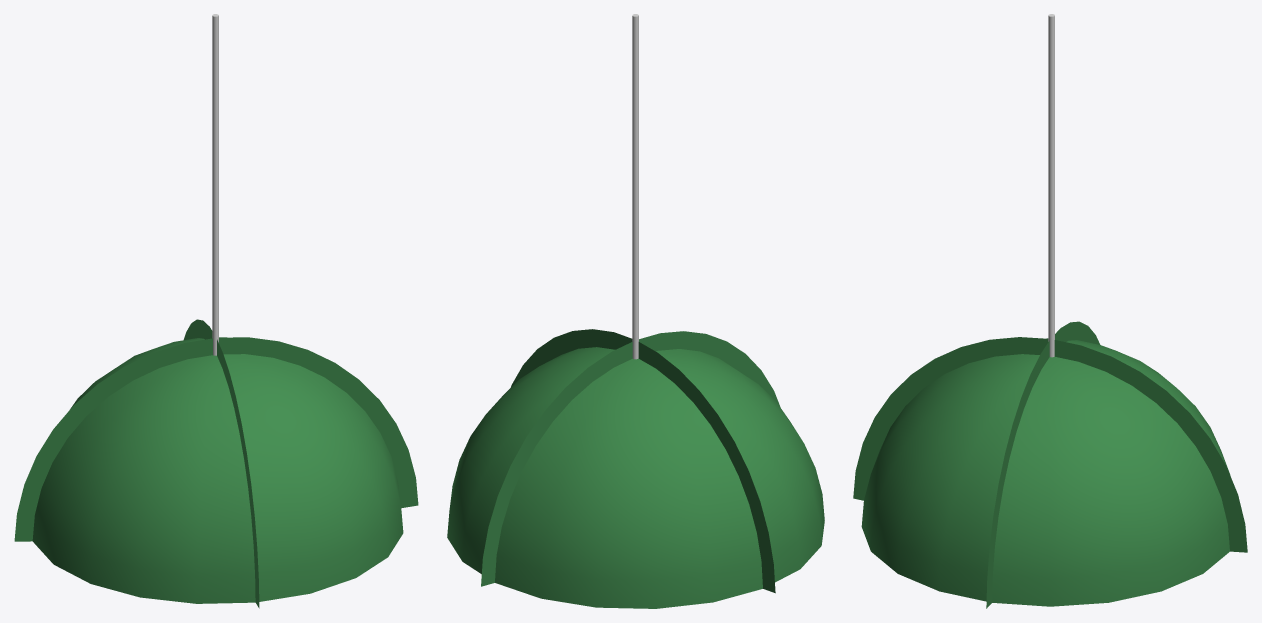
The model's file is KSR_Lamp_A.fbx.
3 views of the same model, side by side, from view 1: azimuth 30°, elevation 25°; view 2: azimuth 150°, elevation 25°; view 3: azimuth 270°, elevation 25° (orthographic).
Visible parts, largest first — view 1: pSphere2, pCylinder1; view 2: pSphere2, pCylinder1; view 3: pSphere2, pCylinder1.
Part boxes in pixels (box(x1,y1,x2,y2)): pSphere2: box(14, 319, 418, 608); pCylinder1: box(212, 14, 218, 355); pSphere2: box(447, 329, 824, 608); pCylinder1: box(632, 14, 638, 359); pSphere2: box(853, 321, 1247, 608); pCylinder1: box(1048, 14, 1054, 357).
Bounding box in the file's own units: 43.09 × 61.63 × 43.09.
